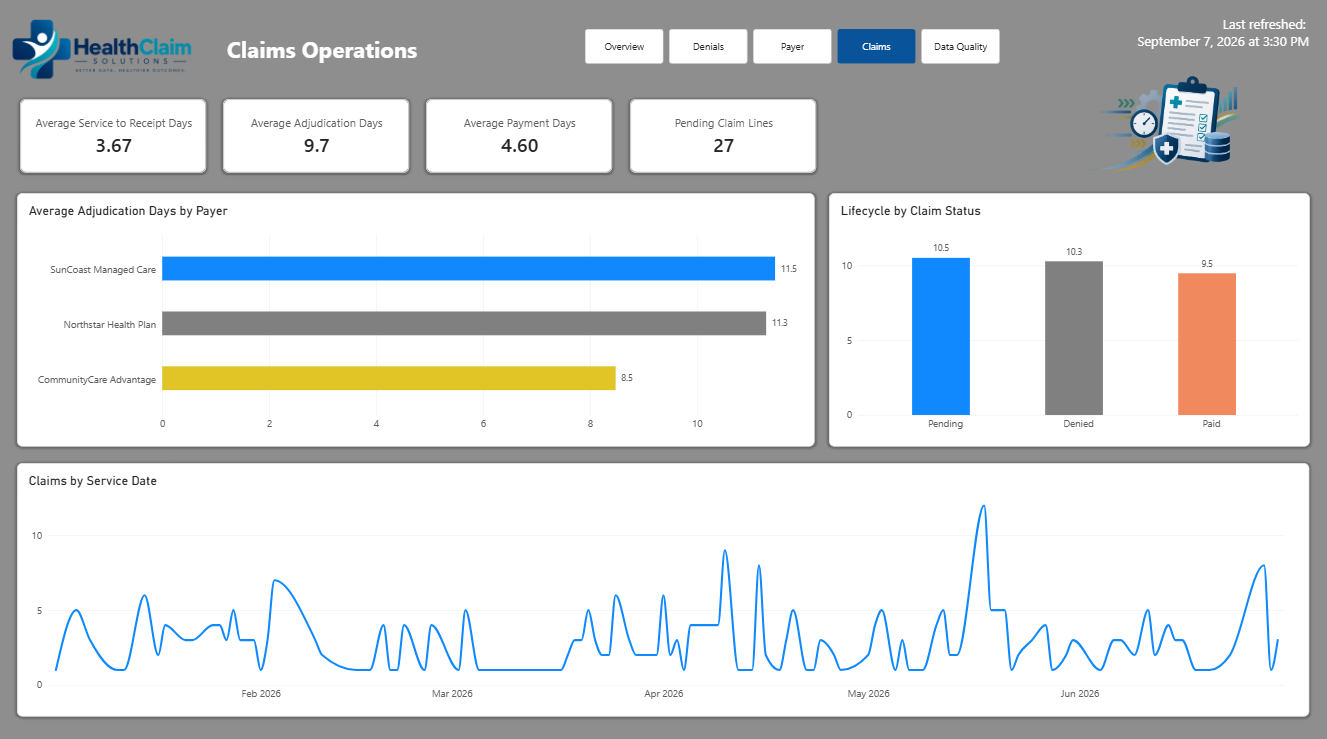

The page's visual inventory and layout, read from the dashboard file:
{"tool":"powerbi","page":{"name":"Claims","canvas":[1920,1080],"ordinal":3},"visuals":[{"type":"clusteredBarChart","title":"Average Adjudication Days by Payer","fields":{"Category":["reporting vw_ClaimsAnalytics.Payer_Name"],"Y":["reporting vw_ClaimsAnalytics.5_Avg Adjudication Days"]},"box":[35.1,288.5,1148.1,364.5],"z":1000},{"type":"clusteredColumnChart","title":"Lifecycle by Claim Status","fields":{"Category":["reporting vw_ClaimsAnalytics.Claim_Status"],"Y":["reporting vw_ClaimsAnalytics.5_Avg Adjudication Days"]},"box":[1202.7,288.5,692,364.5],"z":2000},{"type":"lineChart","title":"Claims by Service Date","fields":{"Category":["reporting vw_ClaimsAnalytics.Service_Date"],"Y":["reporting vw_ClaimsAnalytics.Claim Line Records"]},"box":[35.1,676.4,1859.6,364.5],"z":3000},{"type":"image","box":[0,0,309.9,177.4],"z":5000},{"type":"pageNavigator","box":[852.3,51.9,600,50],"z":6000},{"type":"textbox","box":[1569.1,31.2,325.5,64.3],"z":7000},{"type":"textbox","box":[337.2,58.5,423,60.4],"z":8000},{"type":"cardVisual","title":"Governed Claim %","fields":{"Data":["reporting vw_ClaimsAnalytics.5_Avg Service to Receipt Days"]},"box":[39,152,268,106],"z":11000},{"type":"cardVisual","title":"Governed Claim %","fields":{"Data":["reporting vw_ClaimsAnalytics.5_Avg Adjudication Days"]},"box":[331.4,152,268,106],"z":12000},{"type":"cardVisual","title":"Governed Claim %","fields":{"Data":["reporting vw_ClaimsAnalytics.5_Avg Payment Days"]},"box":[623.8,152,268,106],"z":13000},{"type":"cardVisual","title":"Governed Claim %","fields":{"Data":["reporting vw_ClaimsAnalytics.5_Pending Claim Lines"]},"box":[916.1,152,268,106],"z":13001},{"type":"image","box":[1218.3,101.4,676.4,187.1],"z":13002}]}

Visuals, with their boxes in screenshot pixels (x1, y1, x2, y2), scaled from the page's 1920x1080 canvas onto the 1327x739 screenshot:
"Average Adjudication Days by Payer" clusteredBarChart: pyautogui.locateOnScreen(24, 197, 818, 447)
"Lifecycle by Claim Status" clusteredColumnChart: pyautogui.locateOnScreen(831, 197, 1310, 447)
"Claims by Service Date" lineChart: pyautogui.locateOnScreen(24, 463, 1310, 712)
image: pyautogui.locateOnScreen(0, 0, 214, 121)
pageNavigator: pyautogui.locateOnScreen(589, 36, 1004, 70)
textbox: pyautogui.locateOnScreen(1084, 21, 1309, 65)
textbox: pyautogui.locateOnScreen(233, 40, 525, 81)
"Governed Claim %" cardVisual: pyautogui.locateOnScreen(27, 104, 212, 177)
"Governed Claim %" cardVisual: pyautogui.locateOnScreen(229, 104, 414, 177)
"Governed Claim %" cardVisual: pyautogui.locateOnScreen(431, 104, 616, 177)
"Governed Claim %" cardVisual: pyautogui.locateOnScreen(633, 104, 818, 177)
image: pyautogui.locateOnScreen(842, 69, 1310, 197)
